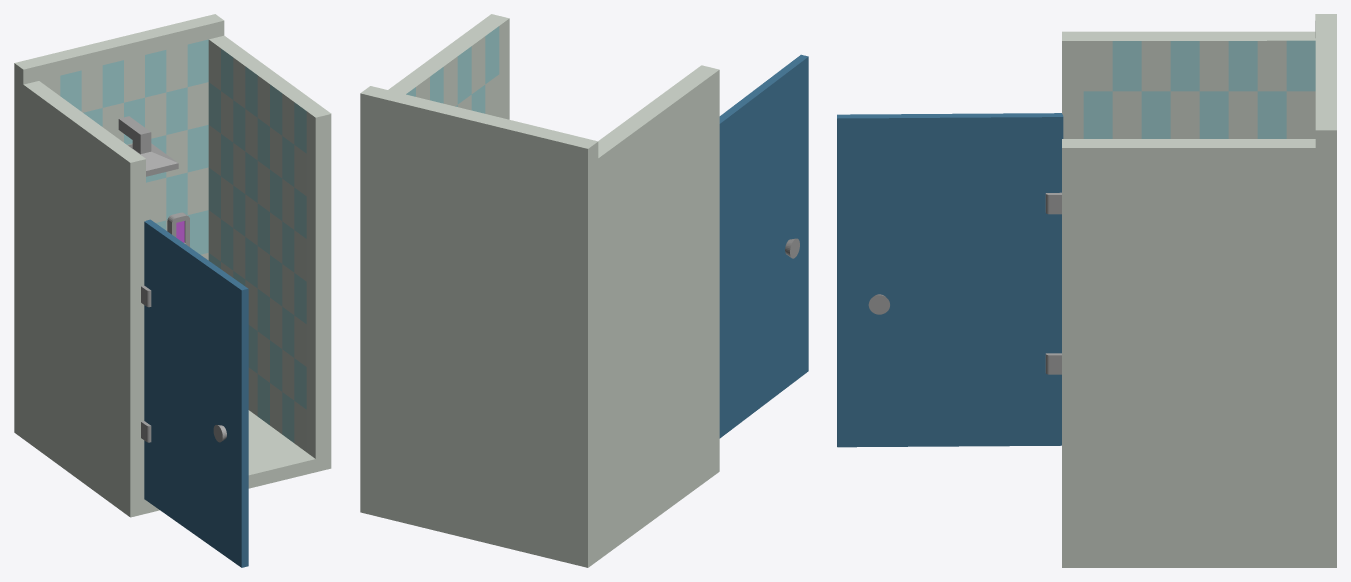
The model's file is Shower Box Ver1 Lv1.fbx.
The picture shows the model from 3 angles, left to right: view 1: azimuth 30°, elevation 25°; view 2: azimuth 150°, elevation 25°; view 3: azimuth 270°, elevation 25°; orthographic projection. The views are drawn at different scales.
Visible parts, largest first — view 1: Shower Box Ver1 Lv1, Shower Door Lv1, Shower Head Lv1; view 2: Shower Box Ver1 Lv1, Shower Door Lv1; view 3: Shower Box Ver1 Lv1, Shower Door Lv1.
Part boxes in pixels (x1,y1,x2,y2): Shower Box Ver1 Lv1: [14, 14, 331, 517]; Shower Door Lv1: [141, 219, 248, 567]; Shower Head Lv1: [118, 116, 178, 176]; Shower Box Ver1 Lv1: [360, 14, 719, 567]; Shower Door Lv1: [719, 54, 808, 438]; Shower Box Ver1 Lv1: [1062, 14, 1336, 567]; Shower Door Lv1: [837, 113, 1063, 447].
Bounding box in the file's own units: 301 × 528 × 547.
